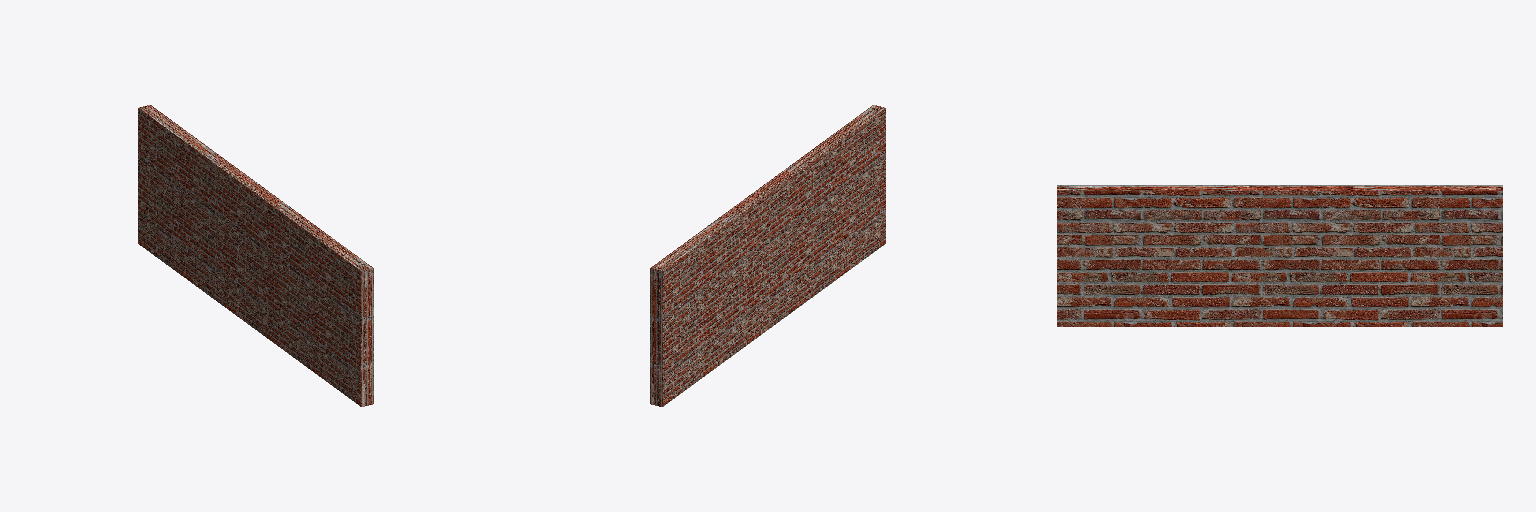
3 views of the same model, side by side, from view 1: azimuth 30°, elevation 25°; view 2: azimuth 150°, elevation 25°; view 3: azimuth 270°, elevation 25° (orthographic).
Visible parts, largest first — view 1: Cube.007_Cube.008; view 2: Cube.007_Cube.008; view 3: Cube.007_Cube.008.
Boxes of the visible parts, x1=… form: Cube.007_Cube.008: x1=138, y1=105, x2=373, y2=406; Cube.007_Cube.008: x1=650, y1=105, x2=885, y2=406; Cube.007_Cube.008: x1=1057, y1=185, x2=1502, y2=326.
Size of the model in its own units: 0.8 by 8.62 by 25.56.
Materials: 1 (1 with a texture image).